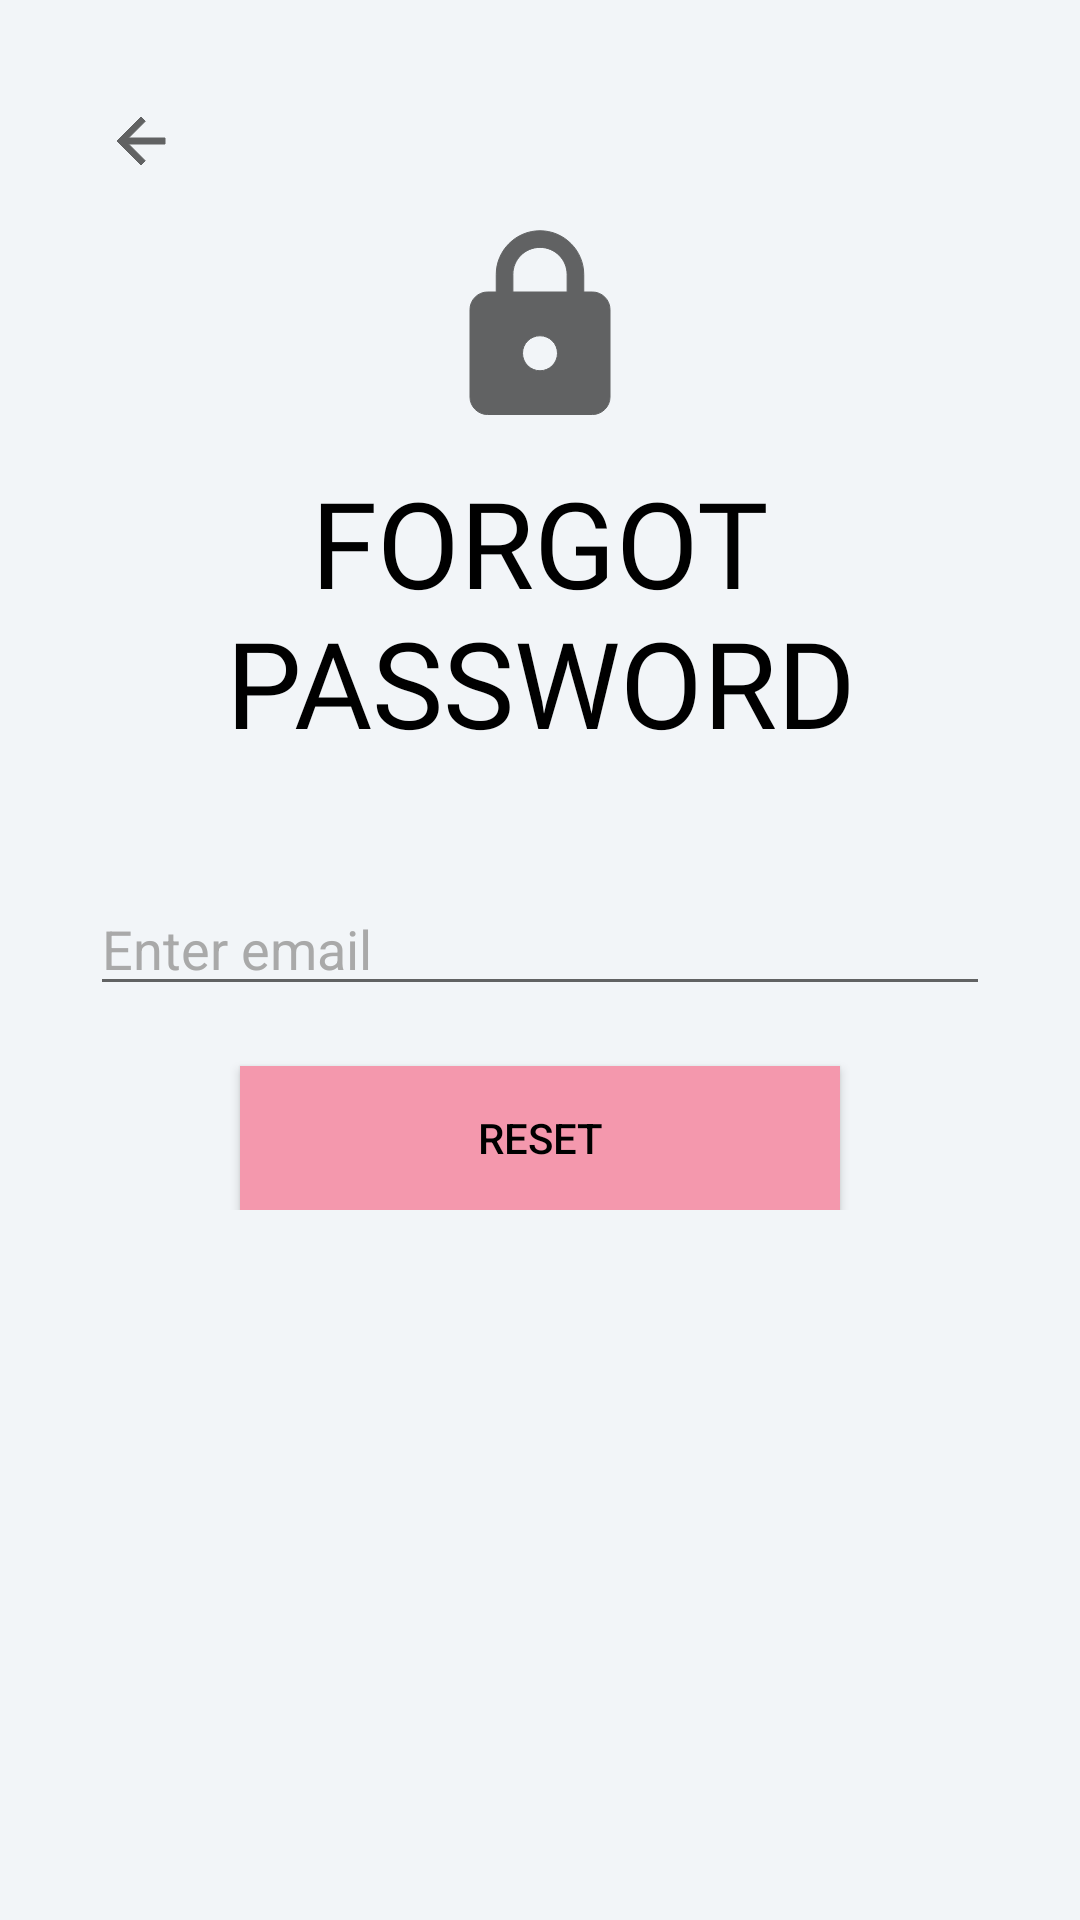

Locate icon controls on the screen. Image size 1080*1920, boxes as (x1, y1, x2, y2).
back: (117, 117, 166, 165)
